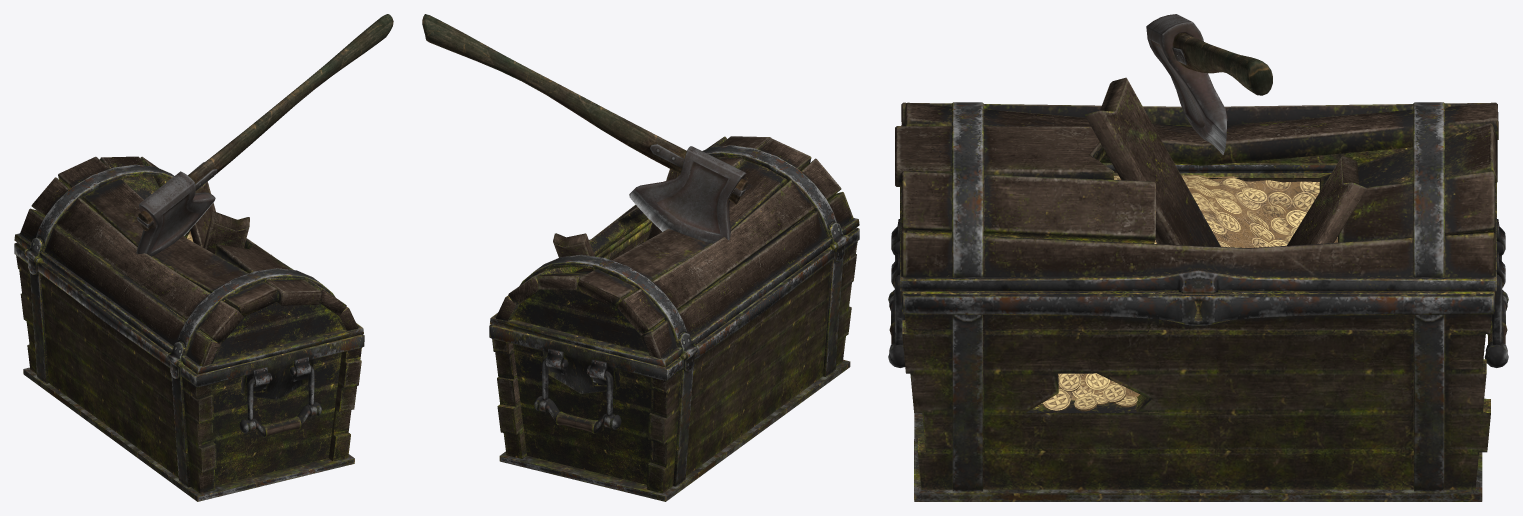
File: old_treasure_chest.glb
The picture shows the model from 3 angles, left to right: view 1: azimuth 30°, elevation 25°; view 2: azimuth 150°, elevation 25°; view 3: azimuth 270°, elevation 25°; orthographic projection. The views are drawn at different scales.
Visible parts, largest first — view 1: Chest, Axe, Broken_plank, Broken_plank.001; view 2: Chest, Axe, Broken_plank.001; view 3: Chest, Gold, Broken_plank, Axe, Broken_plank.001.
Boxes of the visible parts, x1,y1,x2,y2 form: Chest: [14, 156, 364, 501]; Axe: [136, 14, 393, 256]; Broken_plank: [203, 211, 249, 253]; Broken_plank.001: [190, 181, 215, 247]; Chest: [489, 136, 859, 501]; Axe: [422, 14, 747, 243]; Broken_plank.001: [553, 233, 594, 271]; Chest: [888, 102, 1508, 501]; Gold: [1041, 175, 1337, 411]; Broken_plank: [1085, 77, 1220, 246]; Axe: [1146, 14, 1272, 154]; Broken_plank.001: [1287, 156, 1367, 245].
Bounding box in the file's own units: 1.02 × 1.07 × 1.09.
Materials: 2 (2 with a texture image).
